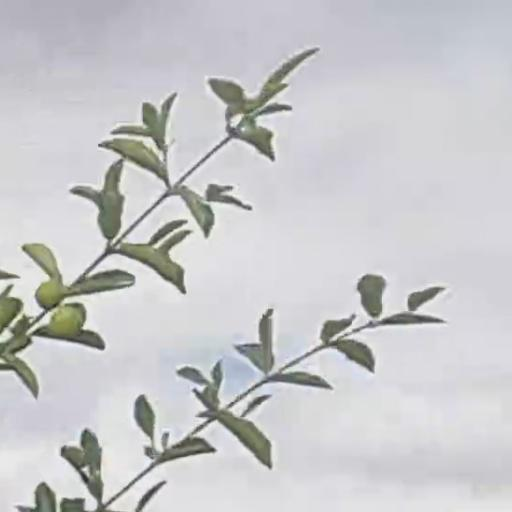acerola_verde: (50, 309, 82, 336), (34, 281, 60, 304)
